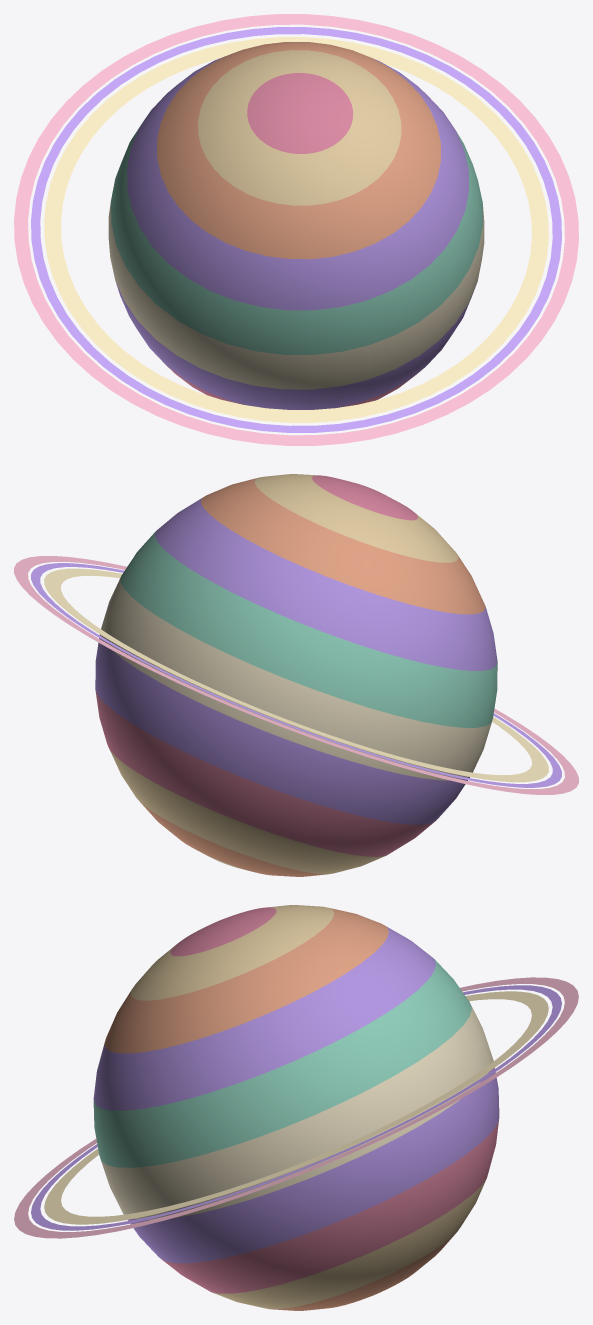
File: planet.glb
3 renders of one model, top to bottom at view 1: azimuth 30°, elevation 25°; view 2: azimuth 150°, elevation 25°; view 3: azimuth 270°, elevation 25°, orthographic. The views are drawn at different scales.
Parts seen in each view (by area): view 1: Planet; view 2: Planet; view 3: Planet.
Part boxes in pixels (x1,y1,x2,y2): Planet: (14,14,578,445); Planet: (14,474,578,876); Planet: (14,905,578,1310).
Size of the model in its own units: 58.86 by 39.99 by 55.63.
